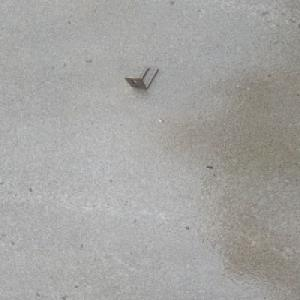MetalPart: (122, 65, 160, 89)
